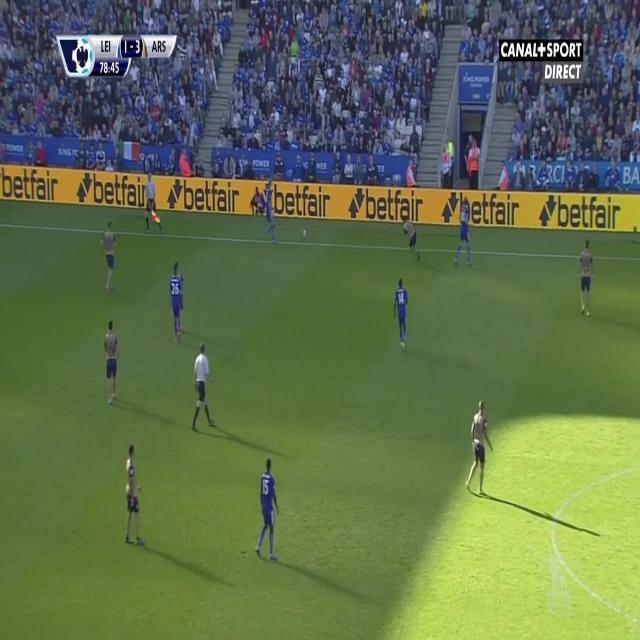Ball: (300, 226, 309, 239)
Player: (464, 401, 494, 500), (254, 458, 282, 564), (122, 443, 146, 556), (102, 317, 121, 410), (100, 218, 121, 298), (168, 261, 187, 349), (451, 199, 474, 269), (578, 238, 596, 320), (391, 277, 410, 353), (400, 213, 422, 266), (262, 183, 278, 249)
Referee: (189, 340, 217, 436), (143, 168, 164, 235)
